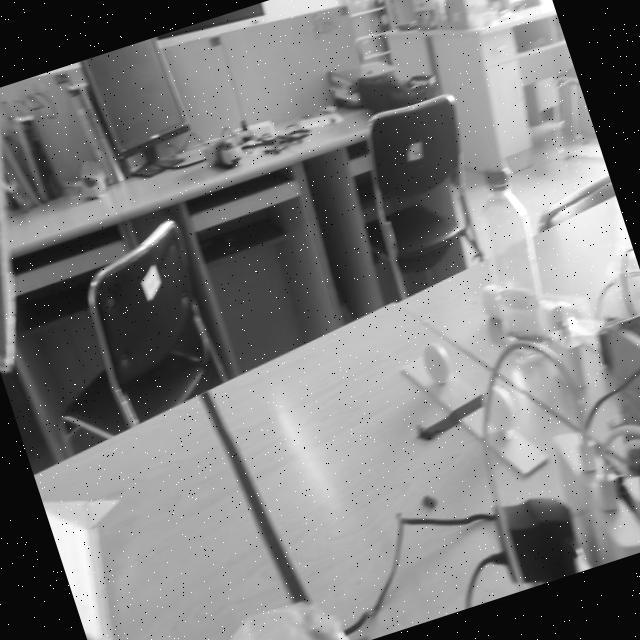ping-pong-ball: (480, 382, 523, 439), (417, 339, 457, 388)
